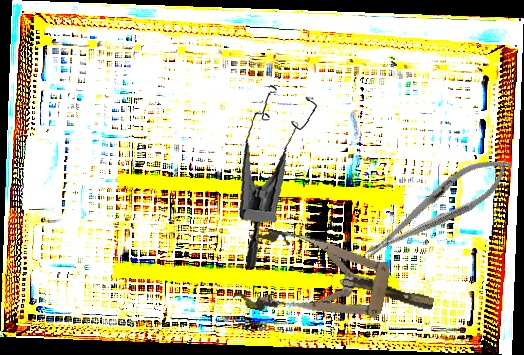Needle Holder: (354, 144, 521, 272)
Speculum: (231, 224, 442, 346), (224, 80, 335, 269)
